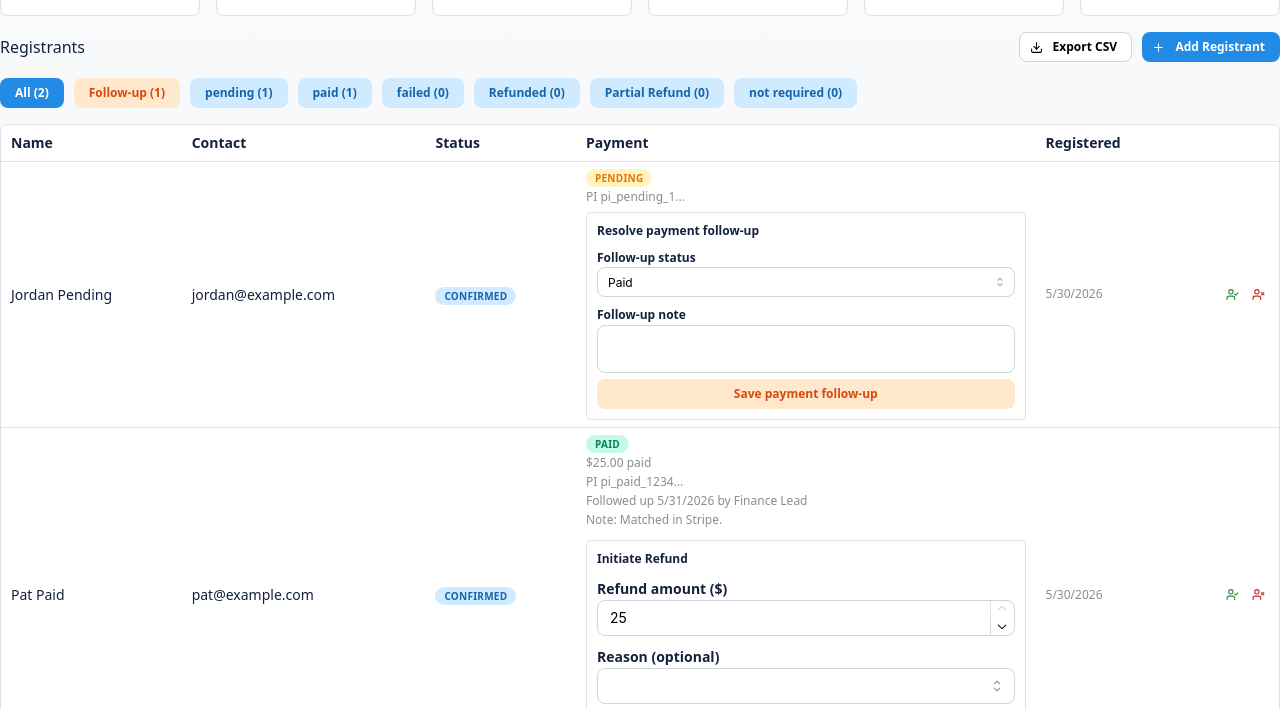
Test: EventRegistrationsPanel payment follow-up › submits payment follow-up status and note
(page scrolled)
Type "Confirmed in Stripe dashboard." into the text box labelled "Follow-up note" at (806, 349), box [597,325,1014,373]
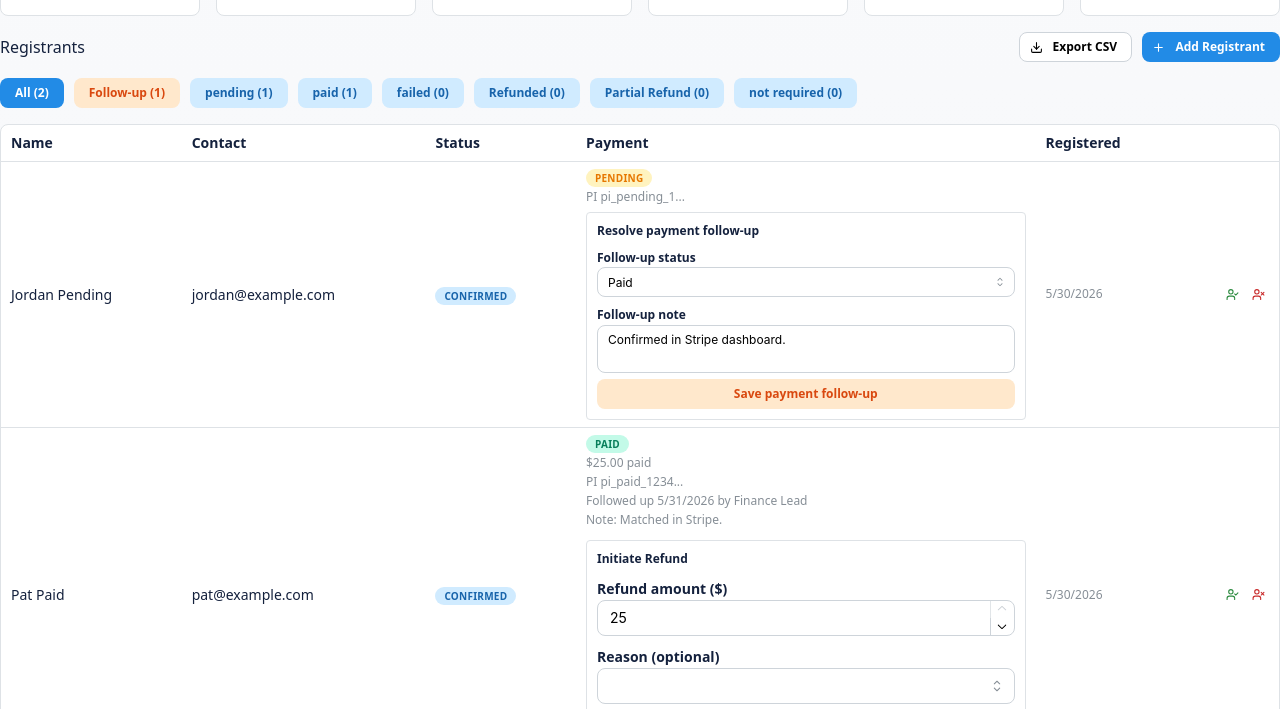
Click the button "Save payment follow-up" at (806, 394), box [597,379,1014,409]
(page scrolled)
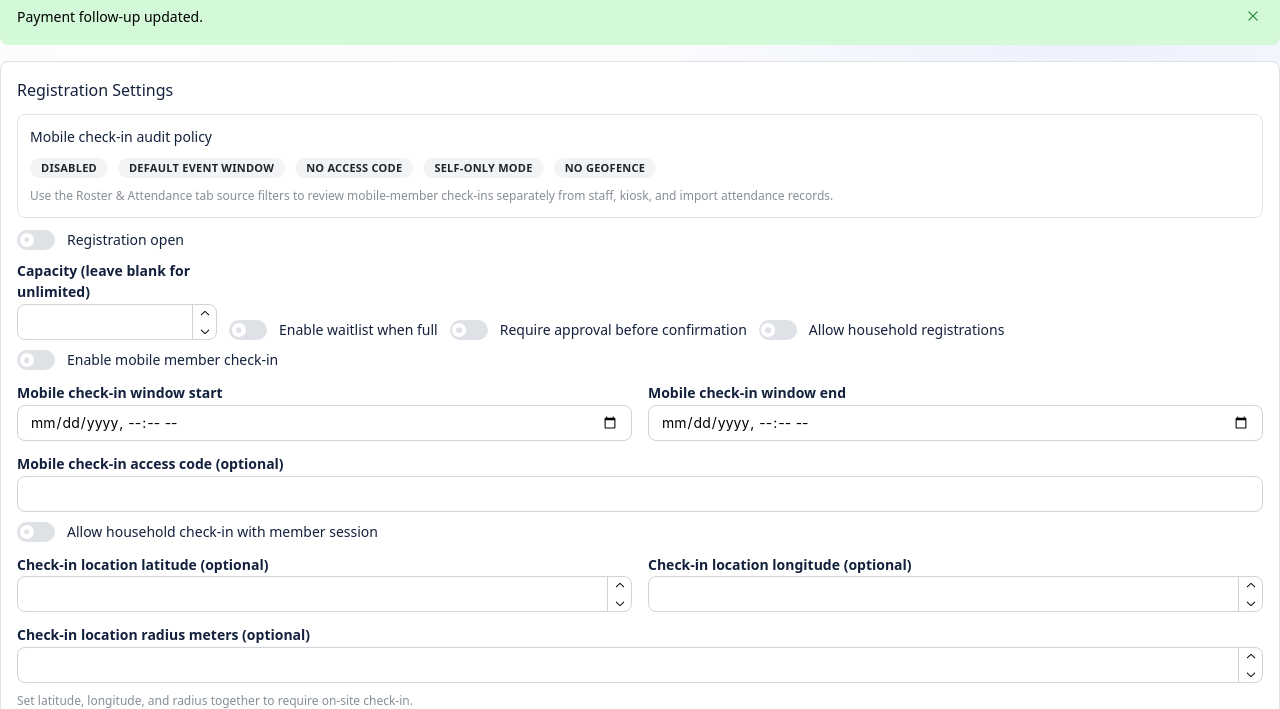
Check: the text "Payment follow-up updated." is shown, box [17,7,203,26]
